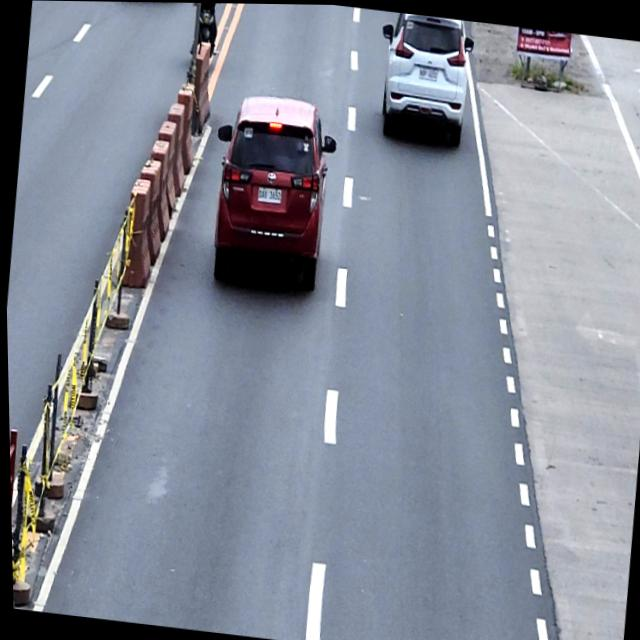Car: (200, 87, 343, 292), (370, 9, 477, 147)
License-Plate: (255, 182, 282, 204), (417, 63, 439, 81)
Motorcycle: (187, 2, 223, 58)
